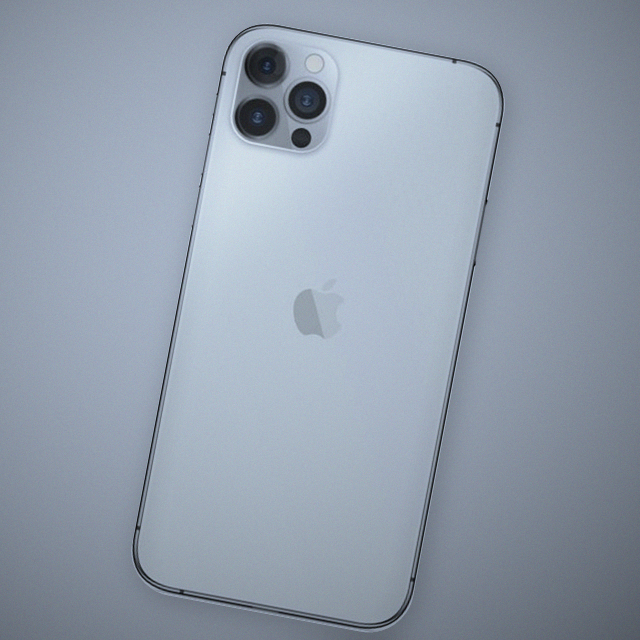iphone_12pro_silver: (92, 9, 525, 639), (218, 26, 346, 165)
